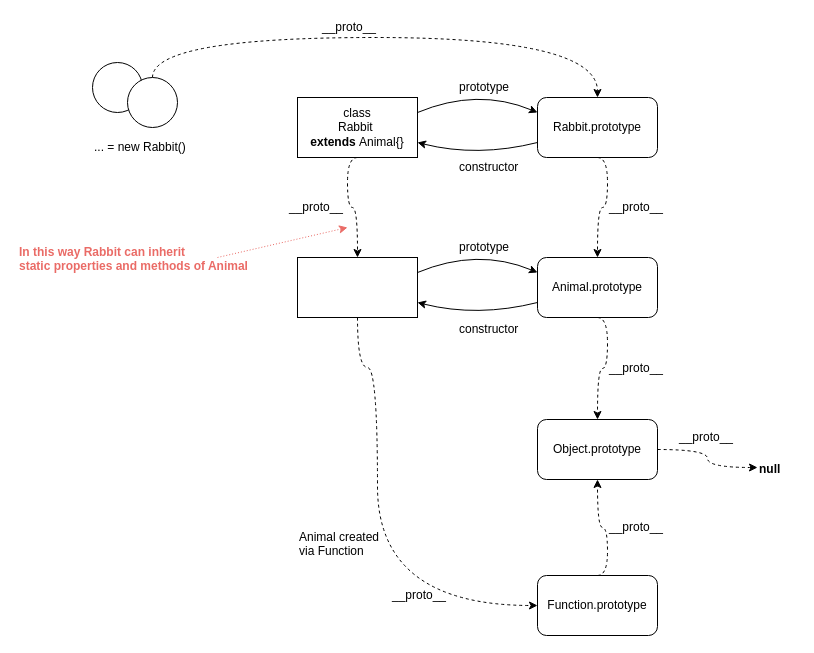
This 814x653 diagram has some shape labels left out. Here are the shapes that lost their labels. From the top down, the centre of each, then its label:
At (117,87): "rb2".
At (152,102): "rb1".
At (357,287): "class Animal{}".
